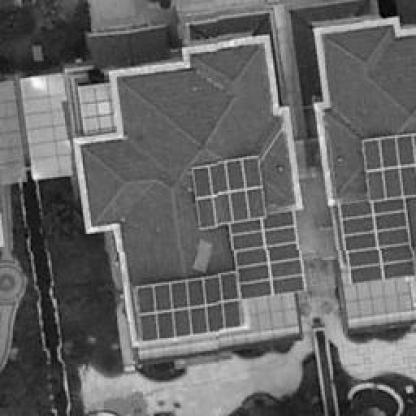solar-pv-panel: (135, 272, 242, 341), (340, 197, 415, 284), (193, 156, 265, 230), (235, 245, 306, 301), (363, 134, 416, 199), (231, 210, 297, 251)
